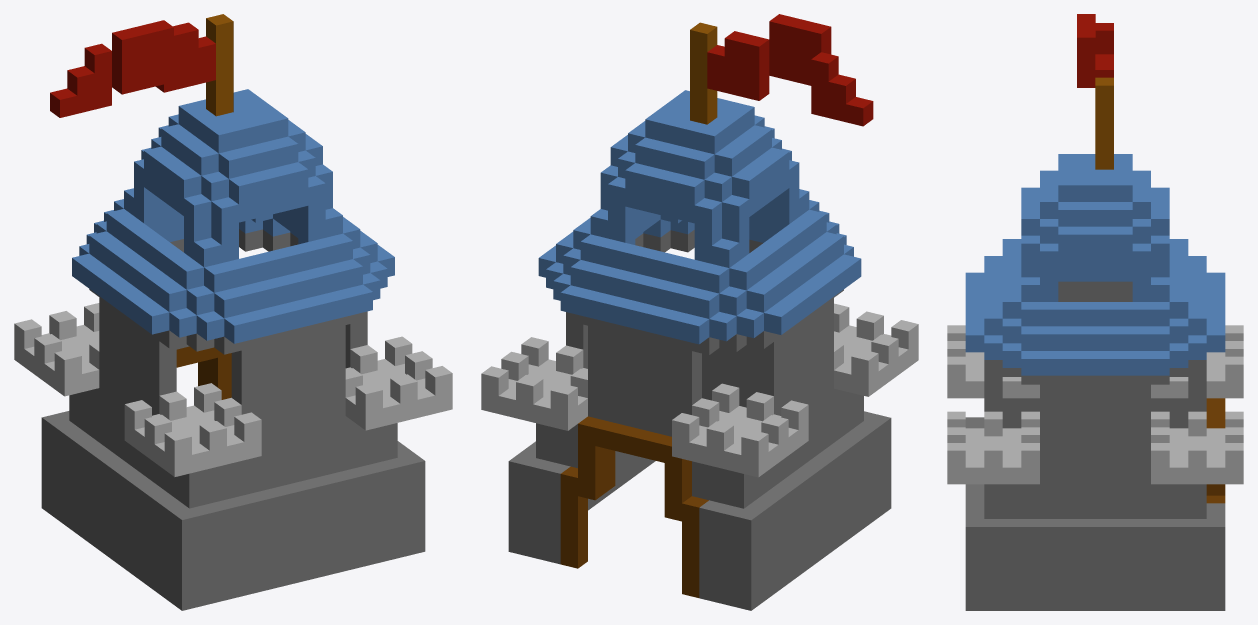
File: Castle_Open_Door.obj
The picture shows the model from 3 angles, left to right: view 1: azimuth 30°, elevation 25°; view 2: azimuth 150°, elevation 25°; view 3: azimuth 270°, elevation 25°; orthographic projection. The views are drawn at different scales.
Size of the model in its own units: 18 by 29 by 16.
Materials: 1 (1 with a texture image).
